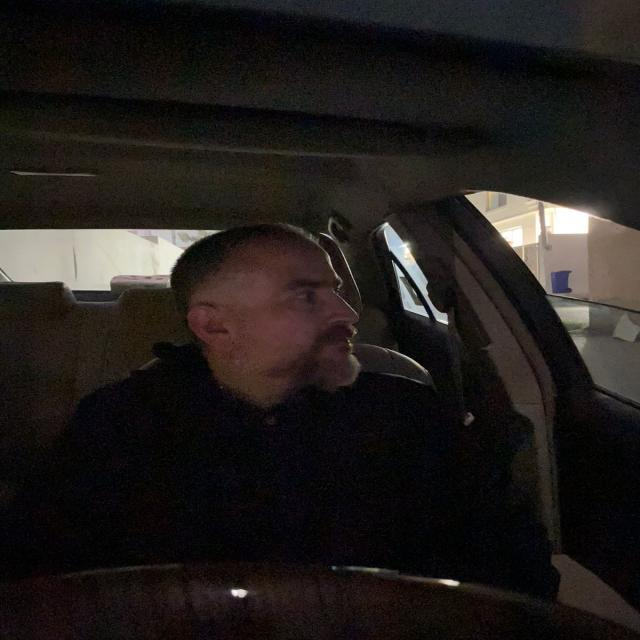LeftRight: (160, 231, 382, 395)
